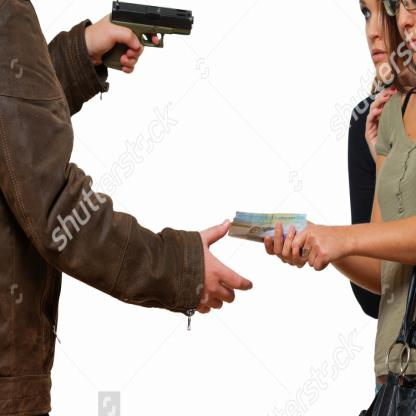gun: (100, 0, 211, 74)
